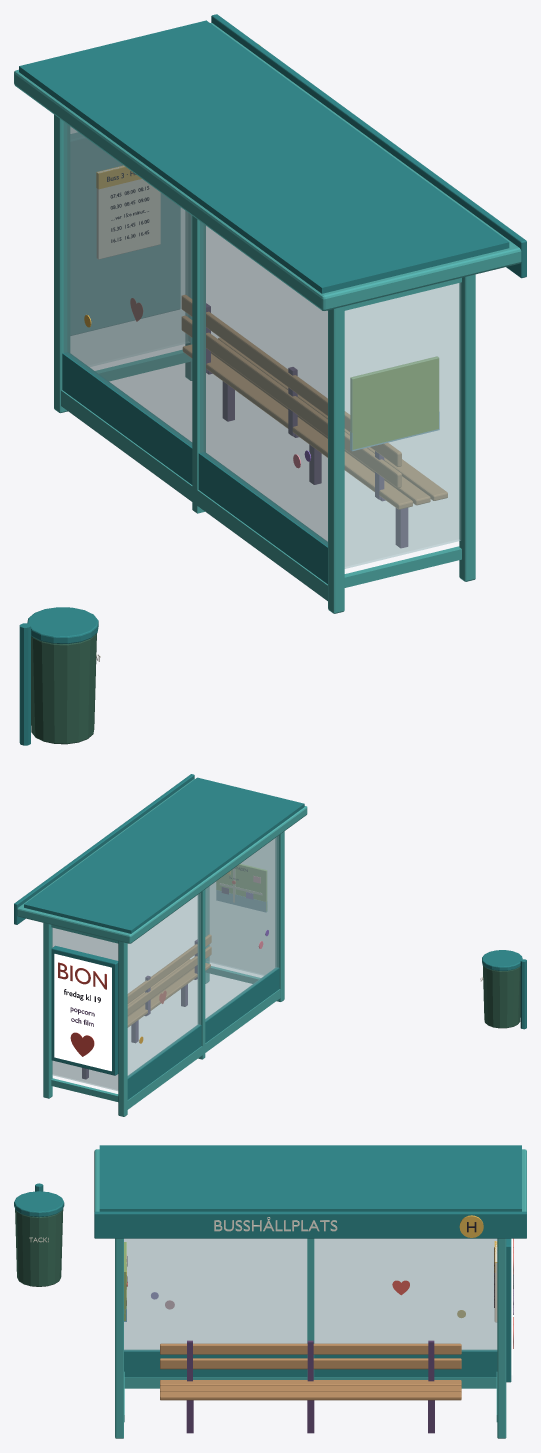
Rendered from bus-shelter.glb.
3 renders of one model, top to bottom at view 1: azimuth 30°, elevation 25°; view 2: azimuth 150°, elevation 25°; view 3: azimuth 270°, elevation 25°, orthographic. The views are drawn at different scales.
Visible parts, largest first — view 1: BusShelter_shelter_glass, BusShelter_teal_dark, BusShelter_teal, BusShelter_wood, BusShelter_map_green, BusShelter_bin, BusShelter_paper, BusShelter_plum; view 2: BusShelter_teal_dark, BusShelter_shelter_glass, BusShelter_teal, BusShelter_glow_ad_glow, BusShelter_wood, BusShelter_bin, BusShelter_map_green, BusShelter_pin, BusShelter_plum, BusShelter_map_sea; view 3: BusShelter_teal_dark, BusShelter_shelter_glass, BusShelter_wood, BusShelter_teal, BusShelter_bin, BusShelter_plum, BusShelter_paper, BusShelter_sticker2.
Part boxes in pixels (x1,y1,x2,y2): BusShelter_shelter_glass: (64,122,460,568); BusShelter_teal_dark: (19,14,526,745); BusShelter_teal: (14,23,521,613); BusShelter_wood: (181,295,447,509); BusShelter_map_green: (350,356,439,449); BusShelter_bin: (31,633,96,744); BusShelter_paper: (96,166,160,661); BusShelter_plum: (206,303,408,548); BusShelter_teal_dark: (14,774,526,1099); BusShelter_shelter_glass: (52,836,278,1090); BusShelter_teal: (17,779,307,1116); BusShelter_glow_ad_glow: (54,954,111,1071); BusShelter_wood: (127,934,211,1027); BusShelter_bin: (482,965,520,1028); BusShelter_map_green: (216,863,267,911); BusShelter_pin: (58,880,235,1056); BusShelter_plum: (70,887,228,1079); BusShelter_map_sea: (216,890,267,912); BusShelter_teal_dark: (14,1145,526,1382); BusShelter_shelter_glass: (124,1238,497,1350); BusShelter_wood: (160,1343,461,1400); BusShelter_teal: (94,1149,526,1438); BusShelter_bin: (15,1208,63,1286); BusShelter_plum: (126,1289,513,1433); BusShelter_paper: (29,1217,497,1322); BusShelter_sticker2: (126,1215,497,1317).
Size of the model in its own units: 4.4 by 2.61 by 5.1.
